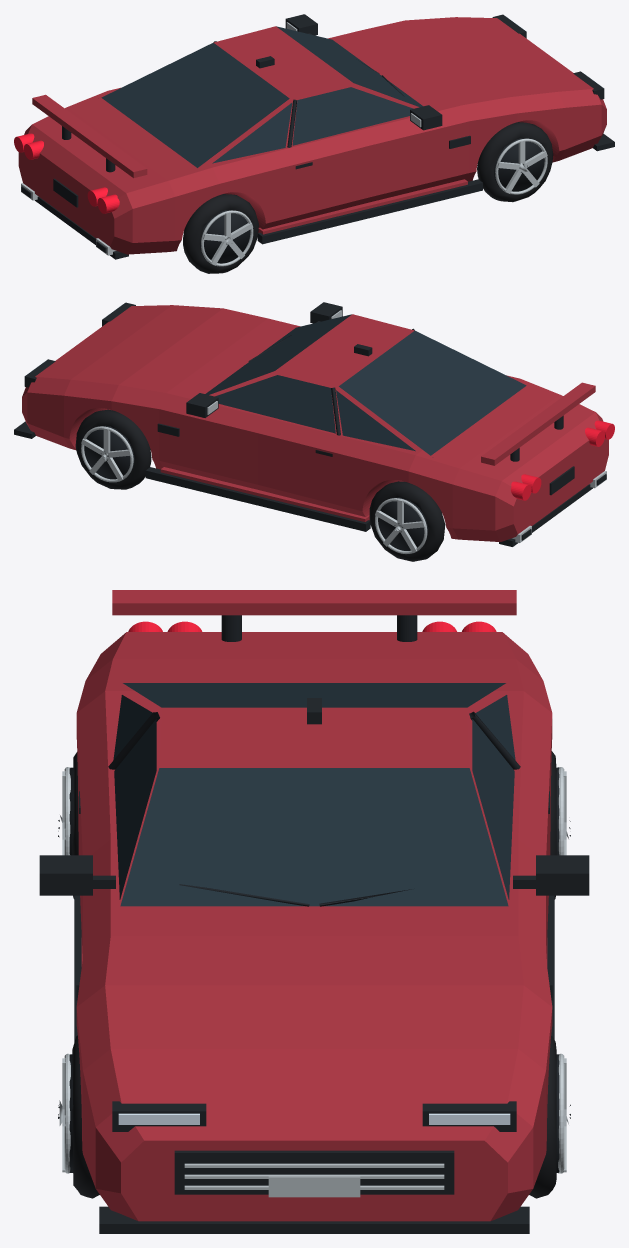
Rendered from riv3.glb.
3 views of the same model, one above another, from view 1: azimuth 30°, elevation 25°; view 2: azimuth 150°, elevation 25°; view 3: azimuth 270°, elevation 25° (orthographic). The views are drawn at different scales.
Parts seen in each view (by area): view 1: 超級跑車; view 2: 超級跑車; view 3: 超級跑車.
Part boxes in pixels (x1=…): 超級跑車: x1=14, y1=14, x2=614, y2=273; 超級跑車: x1=14, y1=302, x2=614, y2=561; 超級跑車: x1=39, y1=590, x2=589, y2=1233.
Size of the model in its own units: 4.79 by 1.35 by 2.27.
